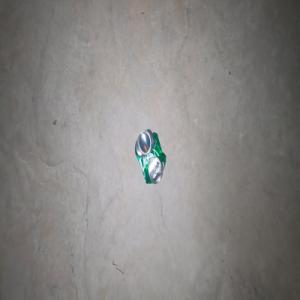SodaCan: (134, 128, 166, 184)
